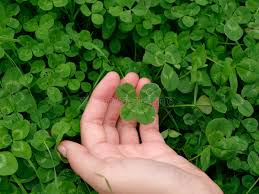4-clover: (116, 83, 160, 125)
